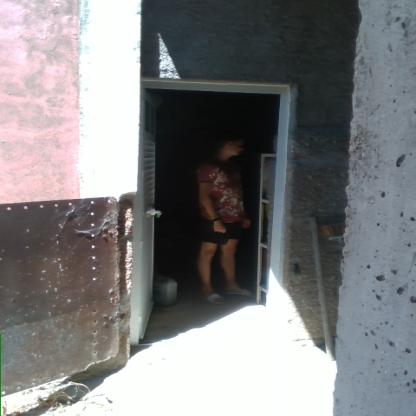open: (127, 74, 298, 350)
